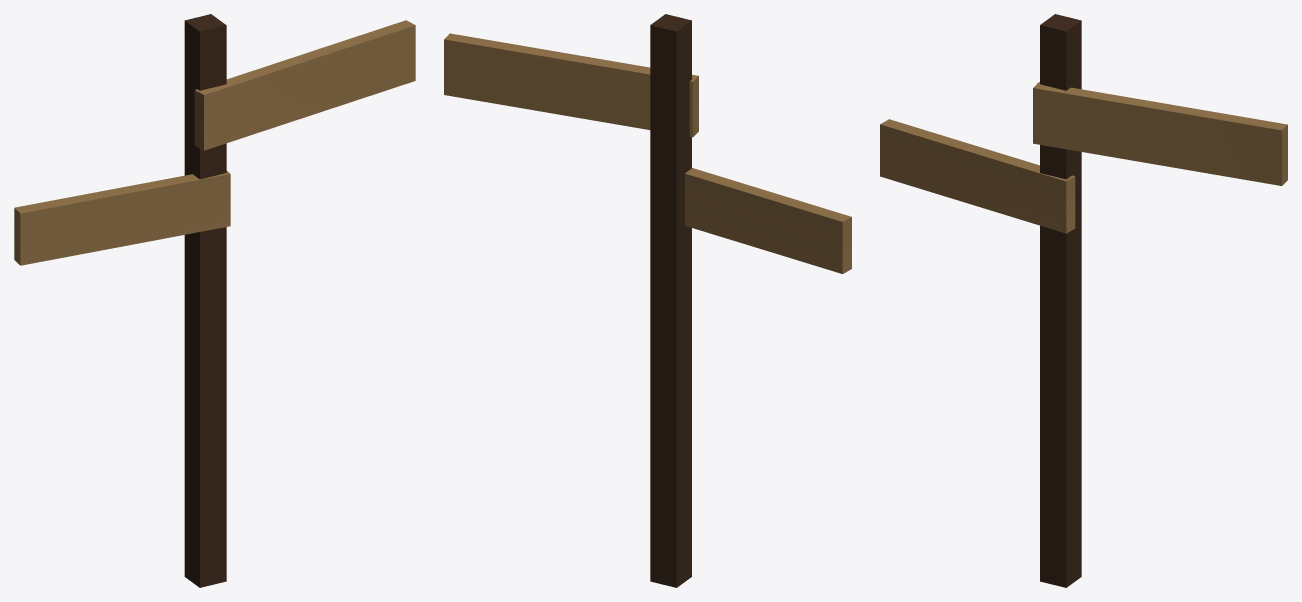
File: signpost.glb
3 renders of one model, left to right at view 1: azimuth 30°, elevation 25°; view 2: azimuth 150°, elevation 25°; view 3: azimuth 330°, elevation 25°, orthographic.
Parts seen in each view (by area): view 1: signpost; view 2: signpost; view 3: signpost.
Part boxes in pixels (<box>): signpost: <box>14,14,415,587</box>; signpost: <box>444,14,851,587</box>; signpost: <box>880,14,1287,587</box>.
Bounding box in the file's own units: 2.4 × 3.2 × 0.2741.
